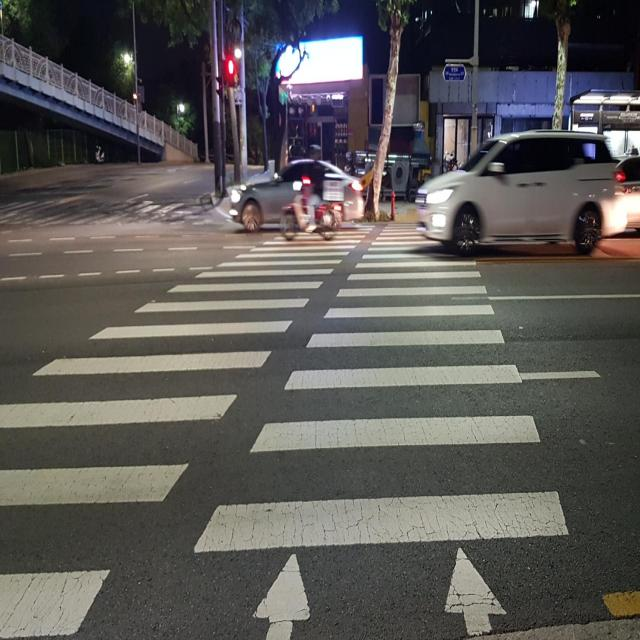빨간불: (228, 57, 235, 86)
횡단보도: (0, 220, 571, 639)
